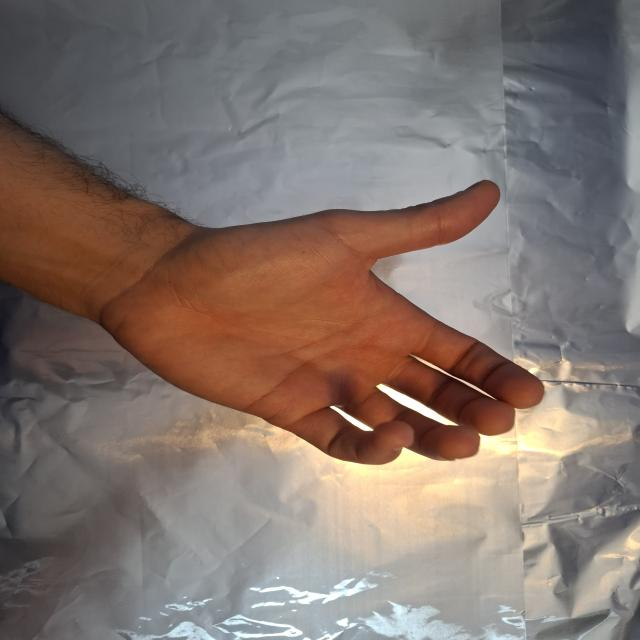glove_off: (91, 178, 547, 466)
